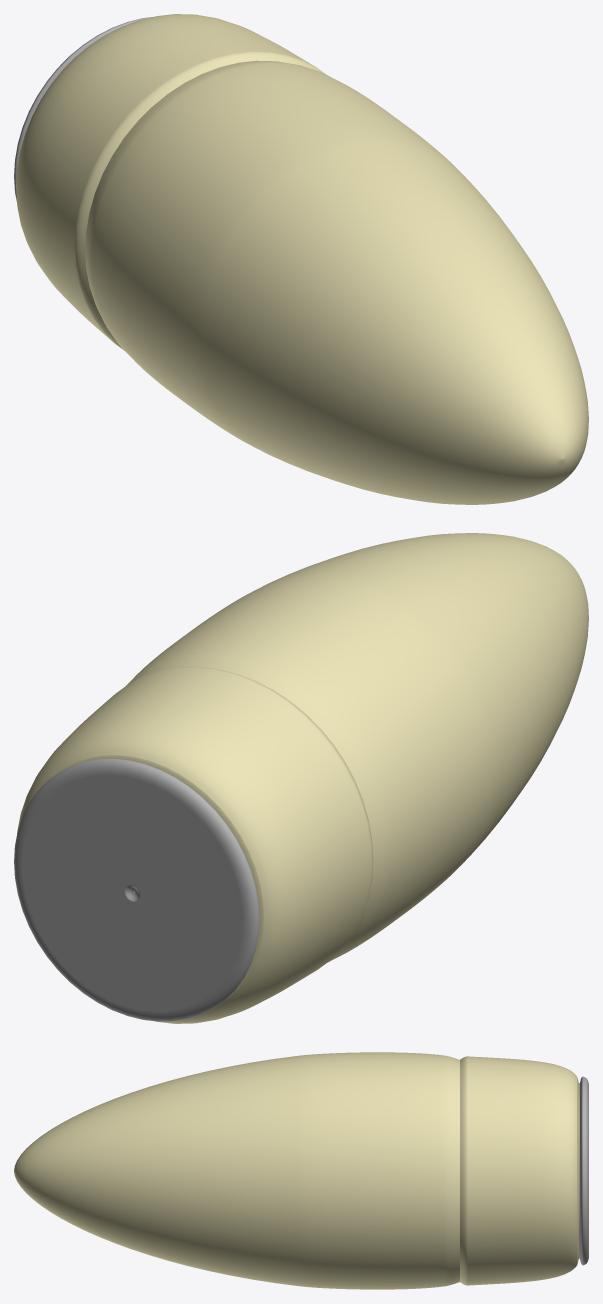
The model's file is Bullet.FBX.
3 renders of one model, top to bottom at view 1: azimuth 30°, elevation 25°; view 2: azimuth 150°, elevation 25°; view 3: azimuth 270°, elevation 25°, orthographic. The views are drawn at different scales.
Visible parts, largest first — view 1: Linie01; view 2: Linie01; view 3: Linie01.
Boxes of the visible parts, <box> form: Linie01: <box>14,14,588,504</box>; Linie01: <box>14,533,588,1023</box>; Linie01: <box>14,1052,588,1289</box>.
Size of the model in its own units: 8.91 by 21.6 by 8.9.
